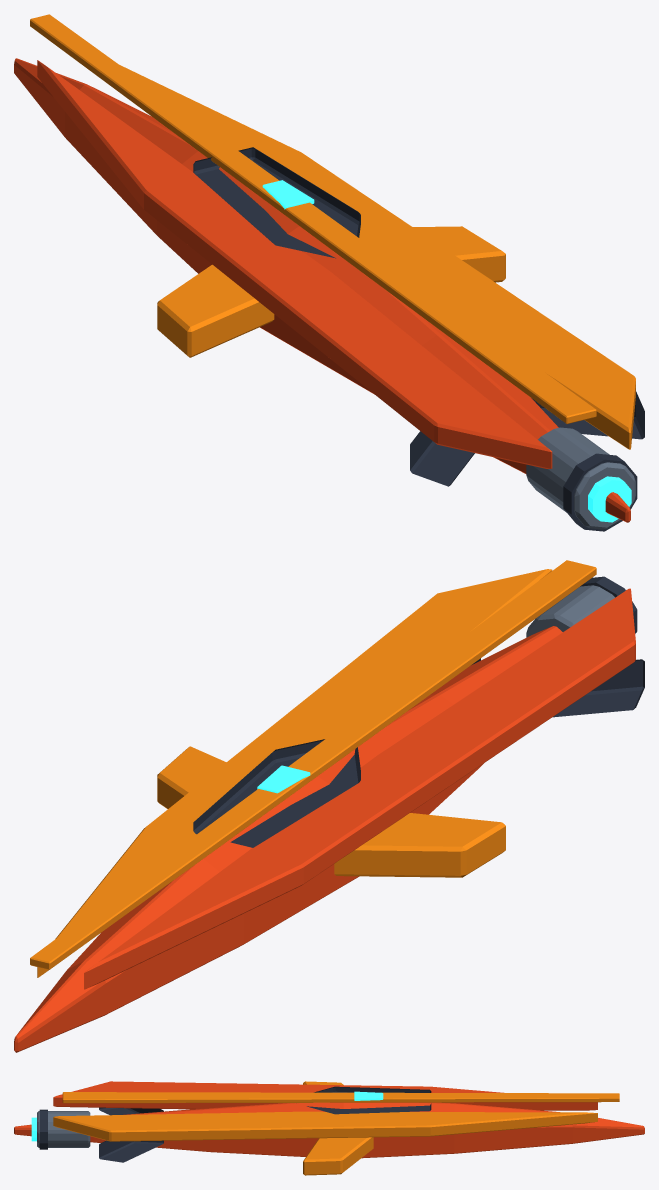
File: fast_enemy.glb
3 views of the same model, one above another, from view 1: azimuth 30°, elevation 25°; view 2: azimuth 150°, elevation 25°; view 3: azimuth 270°, elevation 25° (orthographic). The views are drawn at different scales.
Parts seen in each view (by area): view 1: fast_enemy__Razorwing_Hull, fast_enemy__Razorwing_Accent, fast_enemy__Razorwing_Void, fast_enemy__Razorwing_Gunmetal, fast_enemy__Razorwing_CyanSystems; view 2: fast_enemy__Razorwing_Hull, fast_enemy__Razorwing_Accent, fast_enemy__Razorwing_Void, fast_enemy__Razorwing_Gunmetal, fast_enemy__Razorwing_CyanSystems; view 3: fast_enemy__Razorwing_Accent, fast_enemy__Razorwing_Hull, fast_enemy__Razorwing_Void, fast_enemy__Razorwing_Gunmetal, fast_enemy__Razorwing_CyanSystems.
Boxes of the visible parts, bbox=[...] form: fast_enemy__Razorwing_Hull: bbox=[14, 58, 630, 522]; fast_enemy__Razorwing_Accent: bbox=[30, 14, 635, 449]; fast_enemy__Razorwing_Void: bbox=[193, 147, 644, 531]; fast_enemy__Razorwing_Gunmetal: bbox=[526, 427, 635, 529]; fast_enemy__Razorwing_CyanSystems: bbox=[262, 180, 631, 522]; fast_enemy__Razorwing_Hull: bbox=[14, 588, 635, 1052]; fast_enemy__Razorwing_Accent: bbox=[30, 560, 596, 977]; fast_enemy__Razorwing_Void: bbox=[193, 576, 644, 847]; fast_enemy__Razorwing_Gunmetal: bbox=[526, 585, 614, 637]; fast_enemy__Razorwing_CyanSystems: bbox=[257, 765, 310, 793]; fast_enemy__Razorwing_Accent: bbox=[53, 1081, 619, 1175]; fast_enemy__Razorwing_Hull: bbox=[14, 1081, 644, 1158]; fast_enemy__Razorwing_Void: bbox=[39, 1086, 431, 1162]; fast_enemy__Razorwing_Gunmetal: bbox=[37, 1111, 90, 1147]; fast_enemy__Razorwing_CyanSystems: bbox=[31, 1091, 383, 1141].
Bounding box in the file's own units: 2.48 × 0.7725 × 8.27.
